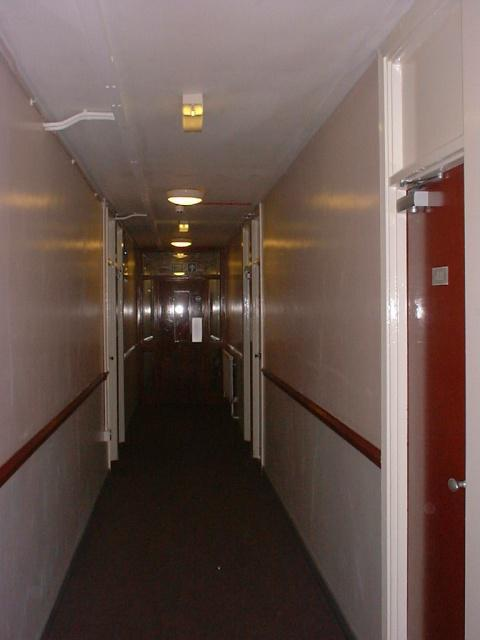Puerta: (393, 179, 469, 632)
